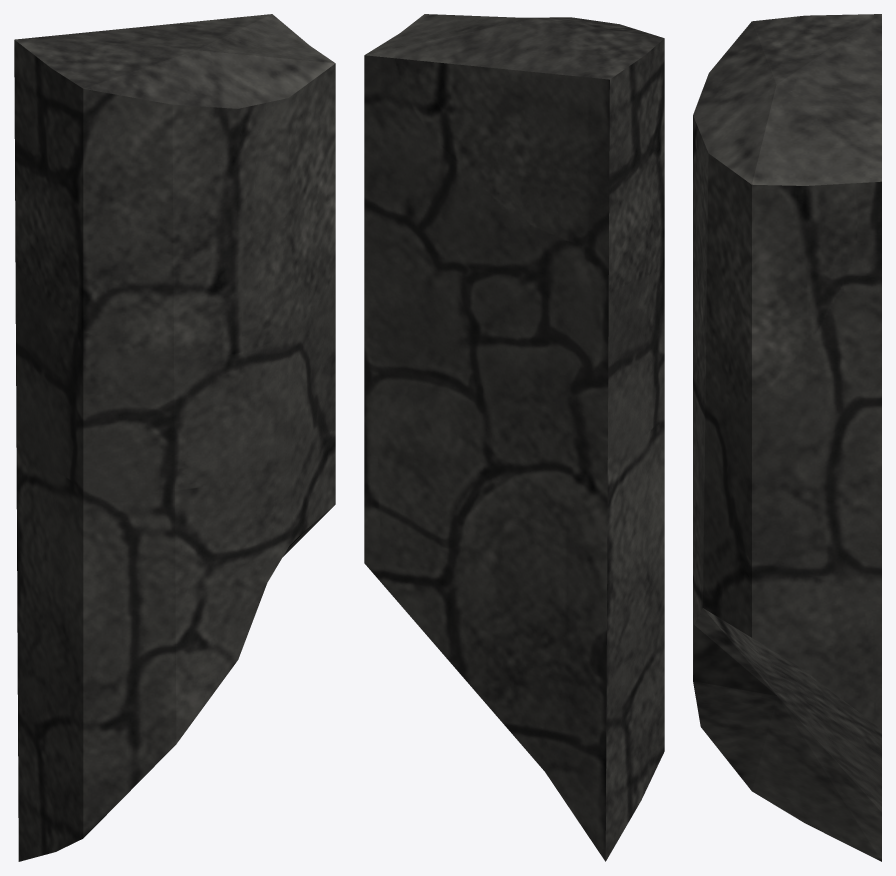
The model's file is stone_pillar_2.fbx.
3 views of the same model, side by side, from view 1: azimuth 30°, elevation 25°; view 2: azimuth 150°, elevation 25°; view 3: azimuth 270°, elevation 25° (orthographic). The views are drawn at different scales.
Parts seen in each view (by area): view 1: ruraltown_house_standard.008; view 2: ruraltown_house_standard.008; view 3: ruraltown_house_standard.008.
Boxes of the visible parts, x1,y1,x2,y2 form: ruraltown_house_standard.008: (14, 14, 335, 861); ruraltown_house_standard.008: (364, 14, 664, 861); ruraltown_house_standard.008: (693, 14, 881, 861).
Bounding box in the file's own units: 74.47 × 227 × 45.97.
